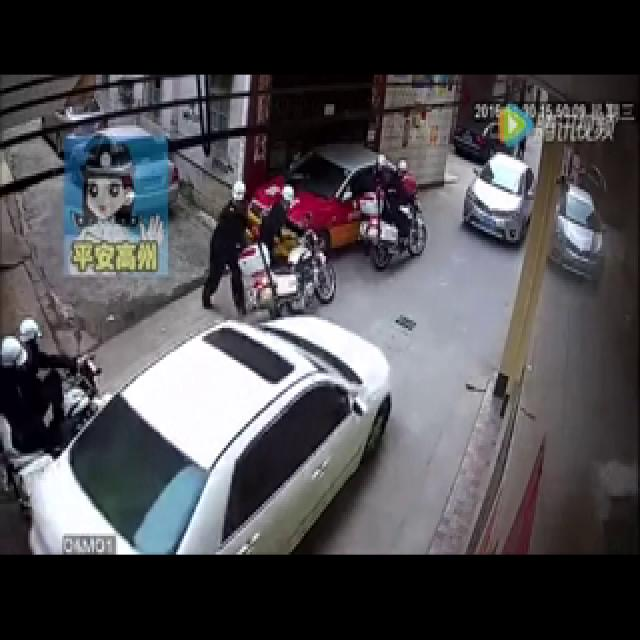arrest: (177, 124, 550, 395)
